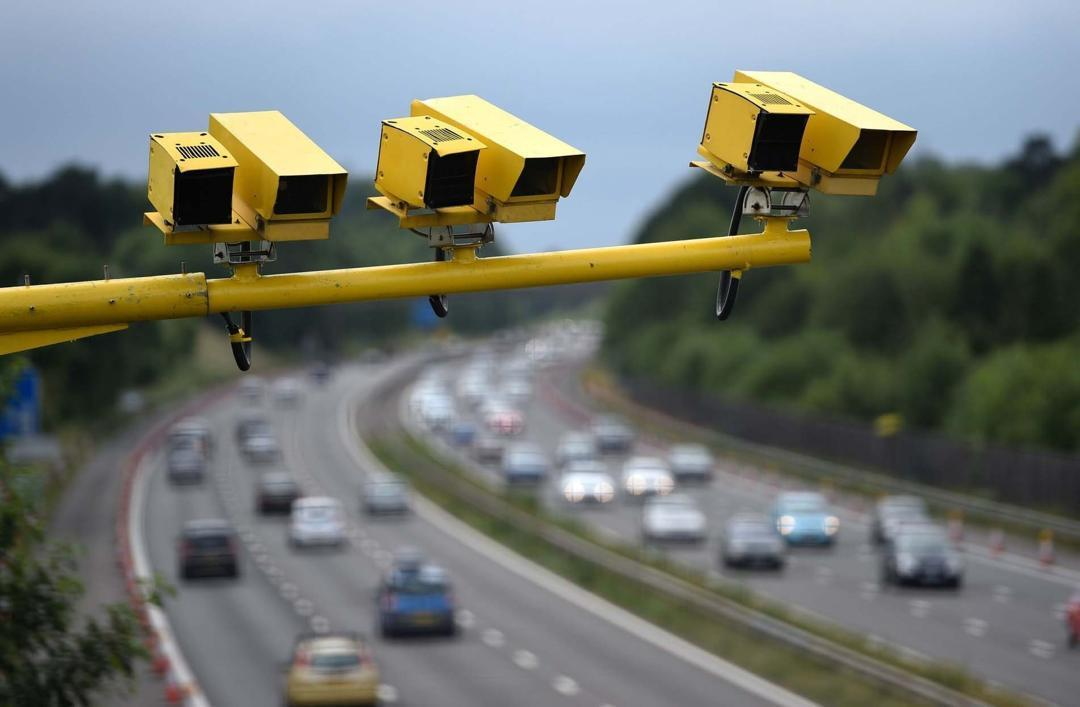Speed-Camera: (691, 61, 927, 213), (136, 96, 353, 254), (369, 90, 584, 237)
